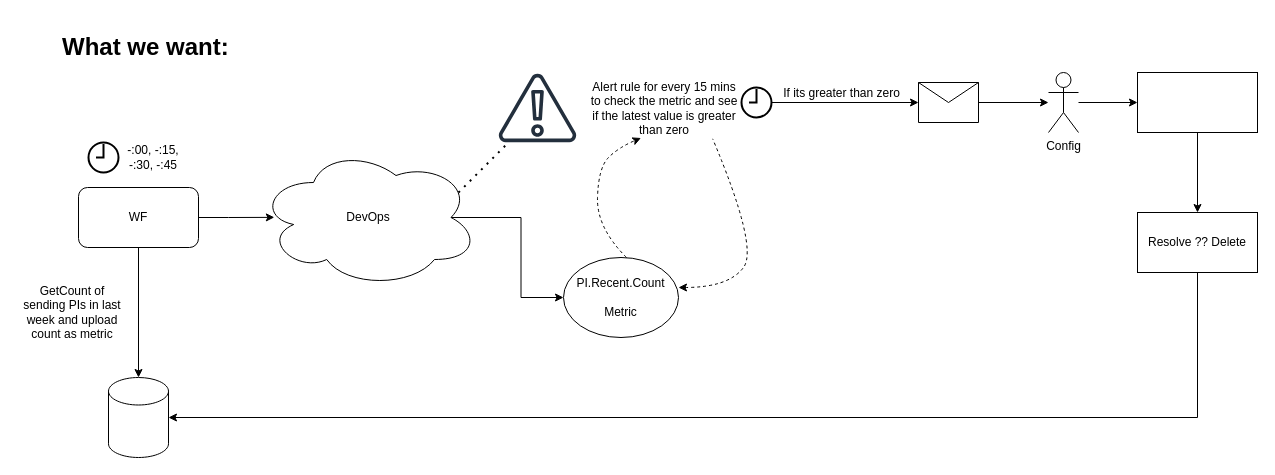
Some shapes in this 1275 by 475 pixel diagram are drawn without their labels. The shapes that lost their labels are listed below. From the top down, each one's box as (x1, y1, x2, y2) in pixels, then its label:
(1136, 72, 1258, 132): Check UI
(108, 376, 168, 458): SQL
